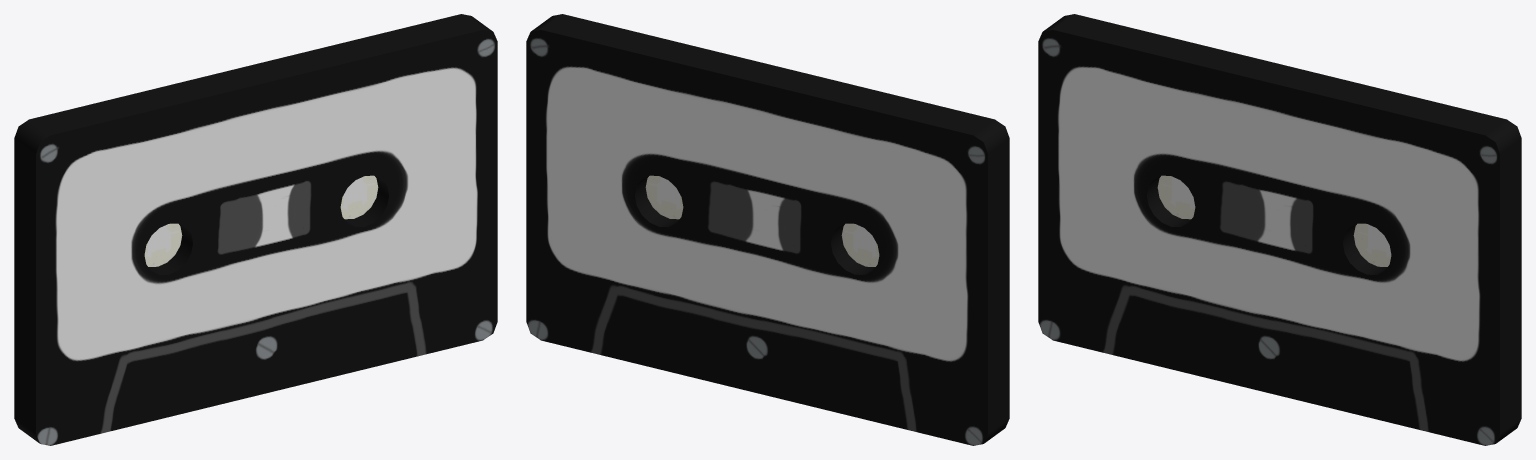
Rendered from Cassette.fbx.
3 renders of one model, left to right at view 1: azimuth 30°, elevation 25°; view 2: azimuth 150°, elevation 25°; view 3: azimuth 330°, elevation 25°, orthographic.
Visible parts, largest first — view 1: Cassette; view 2: Cassette; view 3: Cassette.
Part boxes in pixels (x1=…): Cassette: x1=14, y1=14, x2=497, y2=445; Cassette: x1=526, y1=14, x2=1009, y2=445; Cassette: x1=1038, y1=14, x2=1521, y2=445.
Size of the model in its own units: 2.11 by 1.36 by 0.1715.
1 material, 1 textured.
